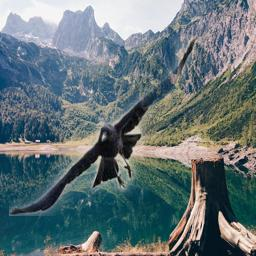Crow: (9, 36, 196, 216)
